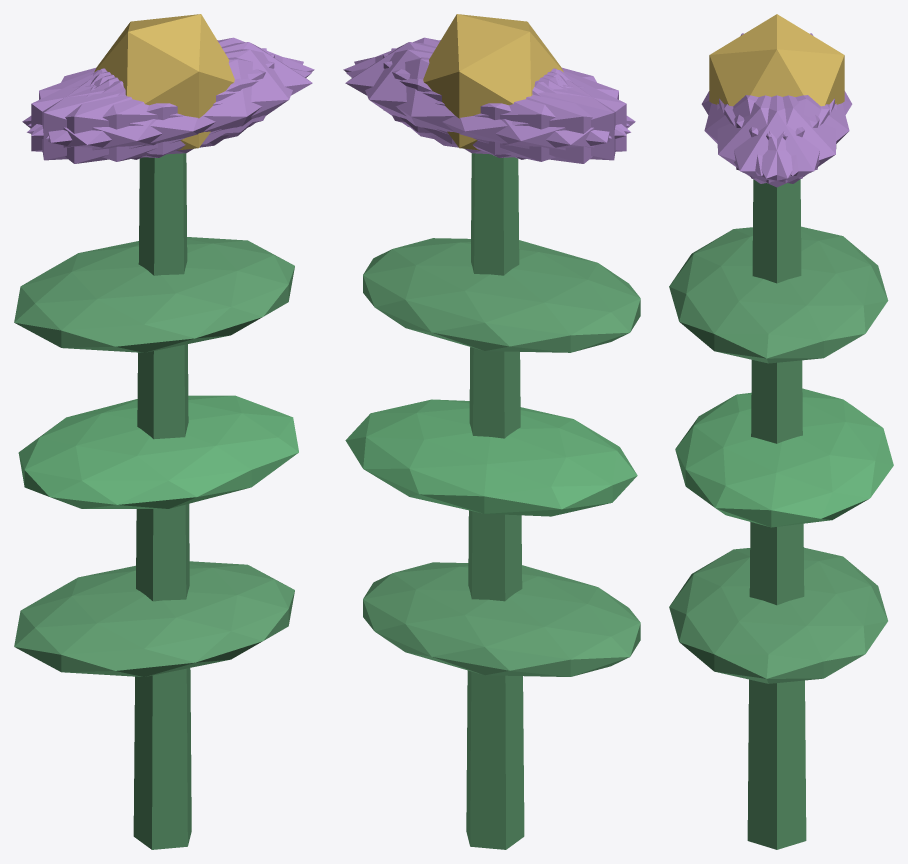
File: trimezia-steyermarkii.glb
3 renders of one model, left to right at view 1: azimuth 30°, elevation 25°; view 2: azimuth 150°, elevation 25°; view 3: azimuth 270°, elevation 25°, orthographic.
Visible parts, largest first — view 1: stem, leaf2, leaf0, leaf1, center, petal1, petal6, petal2, petal5, petal7, petal0, petal4 (+2 smaller); view 2: stem, leaf1, leaf2, leaf0, center, petal8, petal3, petal7, petal4, petal2, petal0, petal5 (+2 smaller); view 3: stem, leaf2, leaf1, leaf0, center, petal0, petal5, petal4, petal1, petal8.
Part boxes in pixels (x1,y1,x2,y2): stem: (133,153,191,849); leaf2: (14,237,294,352); leaf0: (14,561,294,676); leaf1: (18,395,298,508); center: (94,14,234,150); petal1: (27,57,311,161); petal6: (22,70,228,163); petal2: (42,48,266,160); petal5: (46,49,303,154); petal7: (31,54,274,157); petal0: (94,42,312,144); petal4: (28,37,314,135); stem: (466,153,524,849); leaf1: (345,399,637,516); leaf2: (363,238,640,352); leaf0: (363,562,640,676); center: (423,14,563,150); petal8: (346,57,630,161); petal3: (429,70,635,163); petal7: (391,48,615,160); petal4: (354,49,611,154); petal2: (383,54,626,157); petal0: (345,42,563,144); petal5: (343,37,629,136); stem: (747,179,806,849); leaf2: (669,226,888,363); leaf1: (675,388,893,527); leaf0: (669,547,887,683); center: (709,14,844,106); petal0: (719,95,834,187); petal5: (717,95,829,183); petal4: (724,95,836,183); petal1: (704,95,819,175); petal8: (734,95,849,175).
Size of the model in its own units: 0.1493 by 0.403 by 0.102.
